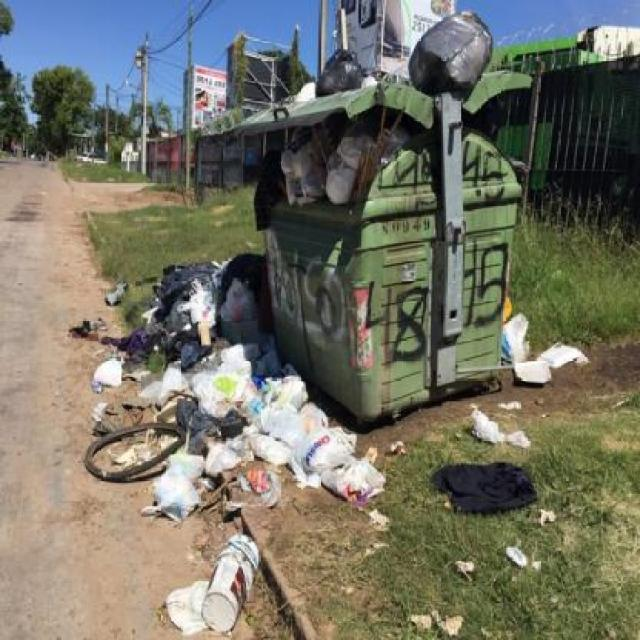garbage: (88, 255, 289, 516), (240, 392, 391, 514), (156, 517, 292, 636), (420, 455, 574, 534), (505, 303, 576, 394)
